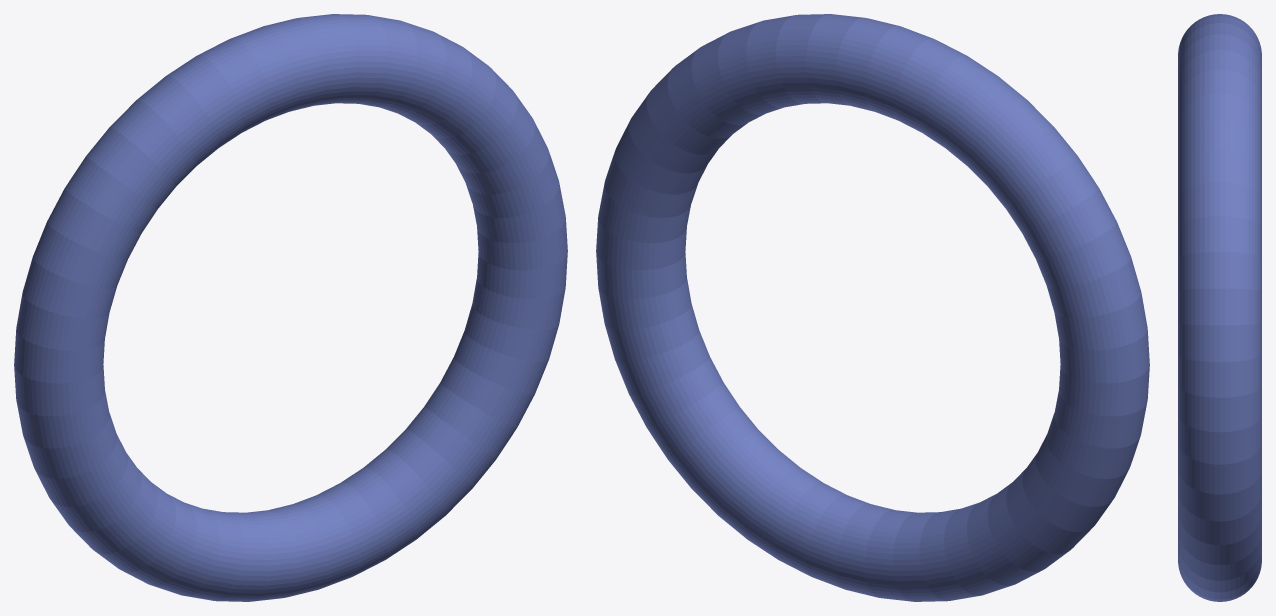
3 views of the same model, side by side, from view 1: azimuth 30°, elevation 25°; view 2: azimuth 150°, elevation 25°; view 3: azimuth 270°, elevation 25° (orthographic). The views are drawn at different scales.
Visible parts, largest first — view 1: world; view 2: world; view 3: world.
Boxes of the visible parts, x1,y1,x2,y2 form: world: (14, 14, 567, 601); world: (596, 14, 1149, 601); world: (1178, 14, 1261, 601).
Bounding box in the file's own units: 14 × 13.97 × 2.
